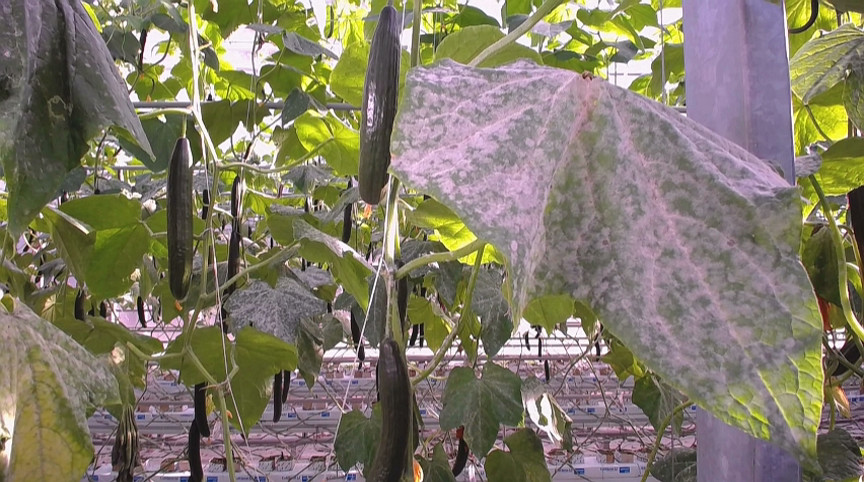cucumber: (356, 7, 406, 205), (364, 341, 416, 482), (168, 138, 196, 300), (194, 384, 211, 438)
